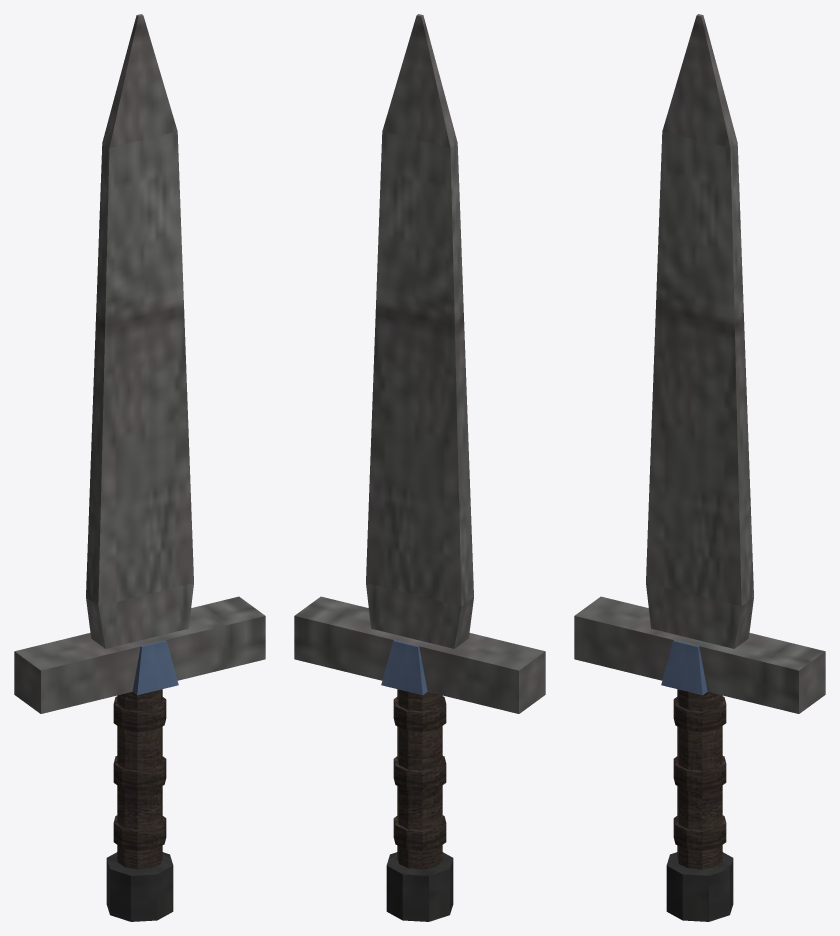
Rendered from wpn_sword_starter.glb.
3 renders of one model, left to right at view 1: azimuth 30°, elevation 25°; view 2: azimuth 150°, elevation 25°; view 3: azimuth 330°, elevation 25°, orthographic.
Parts seen in each view (by area): view 1: wpn_sword_starter; view 2: wpn_sword_starter; view 3: wpn_sword_starter.
Boxes of the visible parts, left/top/right/bottom form: wpn_sword_starter: left=14, top=14, right=265, bottom=921; wpn_sword_starter: left=294, top=14, right=545, bottom=921; wpn_sword_starter: left=574, top=14, right=825, bottom=921.
Bounding box in the file's own units: 0.27 × 1.02 × 0.075.
Materials: 4 (4 with a texture image).
